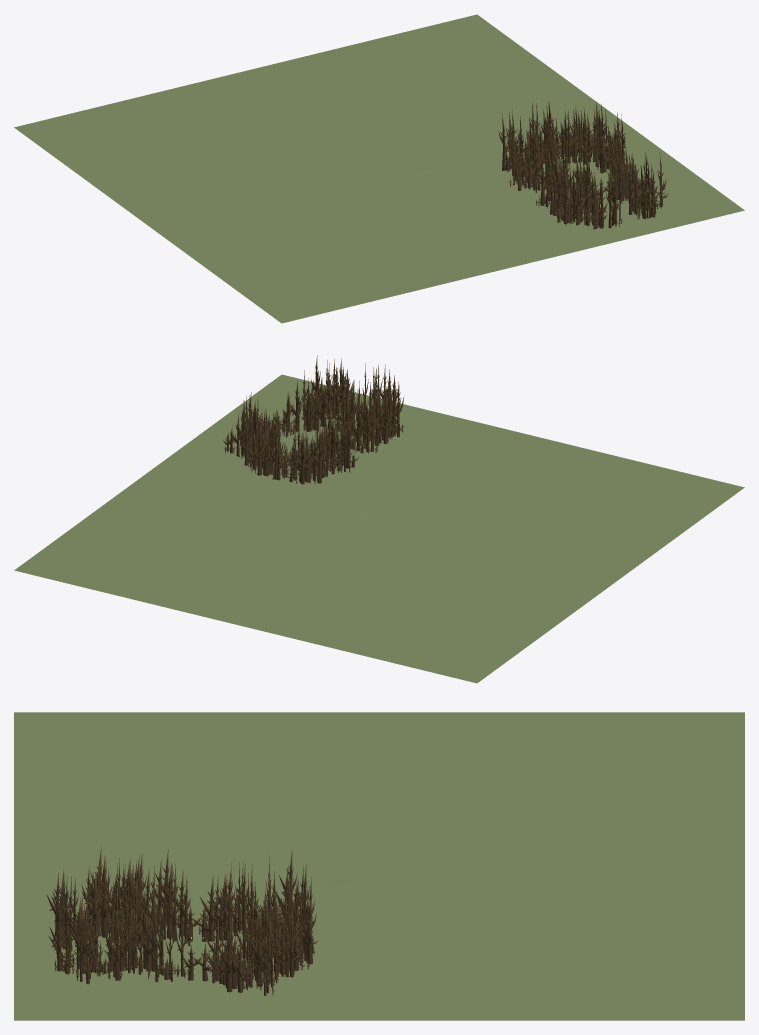
File: 18728_autosave.glb
The picture shows the model from 3 angles, top to bottom: view 1: azimuth 30°, elevation 25°; view 2: azimuth 150°, elevation 25°; view 3: azimuth 270°, elevation 25°; orthographic projection. The views are drawn at different scales.
Visible parts, largest first — view 1: Ground; view 2: Ground; view 3: Ground.
Boxes of the visible parts, x1,y1,x2,y2 form: Ground: (14,14,744,323); Ground: (14,374,744,683); Ground: (14,712,744,1020).
Bounding box in the file's own units: 1000 × 121 × 1002.
Materials: 12 (3 with a texture image).
